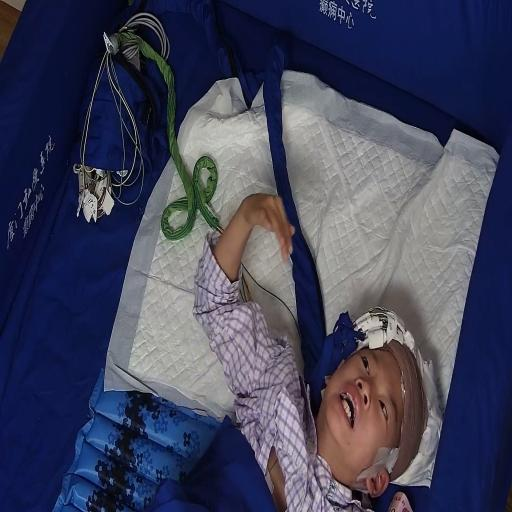Seizure: (316, 329, 405, 488)
